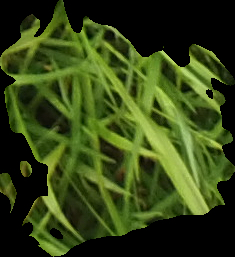grass: (1, 1, 234, 256)
